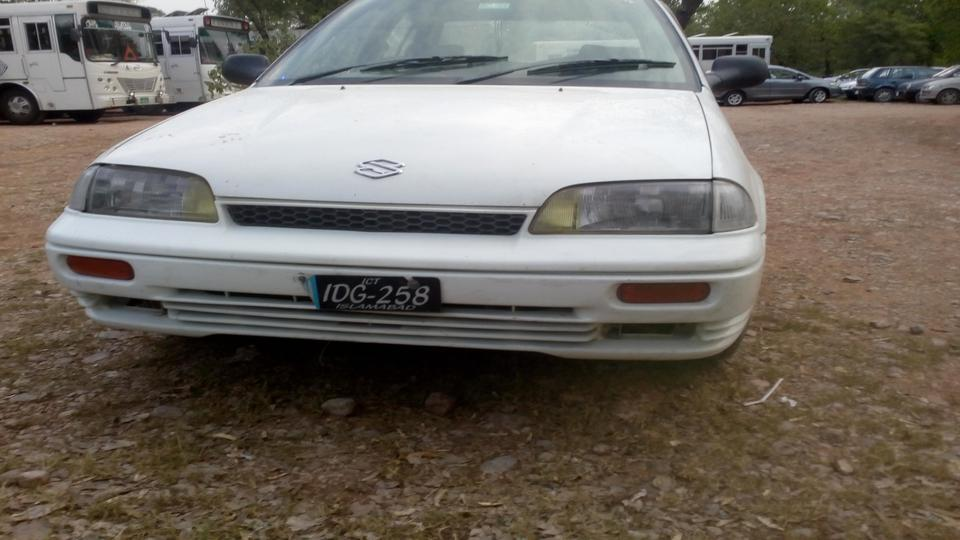NumberPlate: (307, 273, 443, 319)
